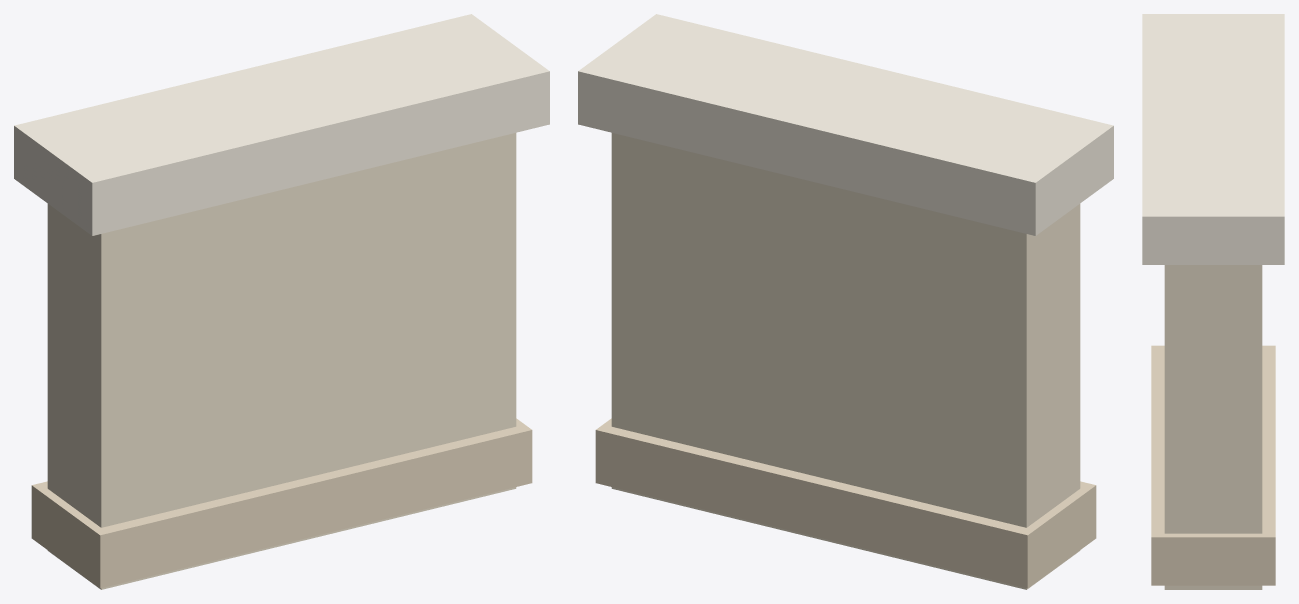
Rendered from Wall_Straight_1m.glb.
The picture shows the model from 3 angles, left to right: view 1: azimuth 30°, elevation 25°; view 2: azimuth 150°, elevation 25°; view 3: azimuth 270°, elevation 25°; orthographic projection. The views are drawn at different scales.
Parts seen in each view (by area): view 1: wall_0, cap_1, base_2; view 2: wall_0, cap_1, base_2; view 3: cap_1, wall_0, base_2.
Part boxes in pixels (box(x1,y1,x2,y2)): wall_0: box(47, 133, 516, 589); cap_1: box(14, 14, 549, 235); base_2: box(31, 418, 532, 588); wall_0: box(611, 133, 1080, 589); cap_1: box(578, 14, 1113, 235); base_2: box(595, 418, 1096, 588); cap_1: box(1142, 14, 1284, 264); wall_0: box(1164, 265, 1262, 589); base_2: box(1151, 345, 1275, 585).
Size of the model in its own units: 1.08 by 0.95 by 0.32.
